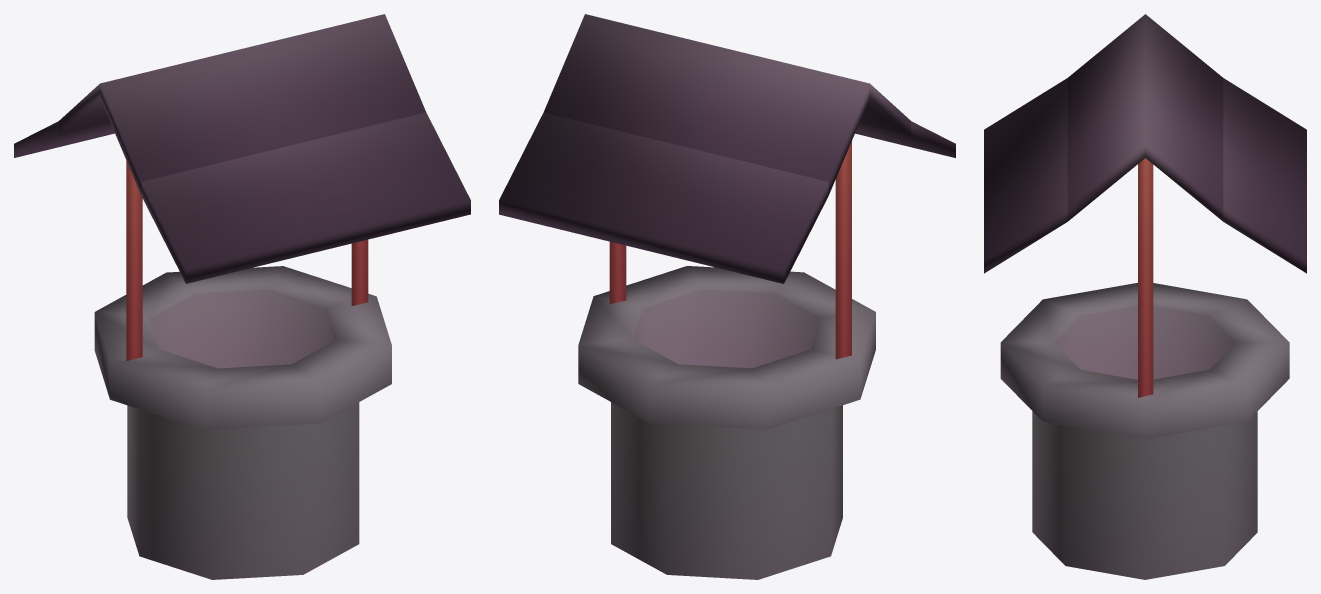
Rendered from Mdl_Well.fbx.
3 renders of one model, left to right at view 1: azimuth 30°, elevation 25°; view 2: azimuth 150°, elevation 25°; view 3: azimuth 270°, elevation 25°, orthographic. The views are drawn at different scales.
Visible parts, largest first — view 1: Well; view 2: Well; view 3: Well.
Part boxes in pixels (box(x1,y1,x2,y2)): Well: box(14, 14, 470, 579); Well: box(499, 14, 955, 579); Well: box(984, 14, 1306, 579).
Size of the model in its own units: 125 by 202 by 130.
